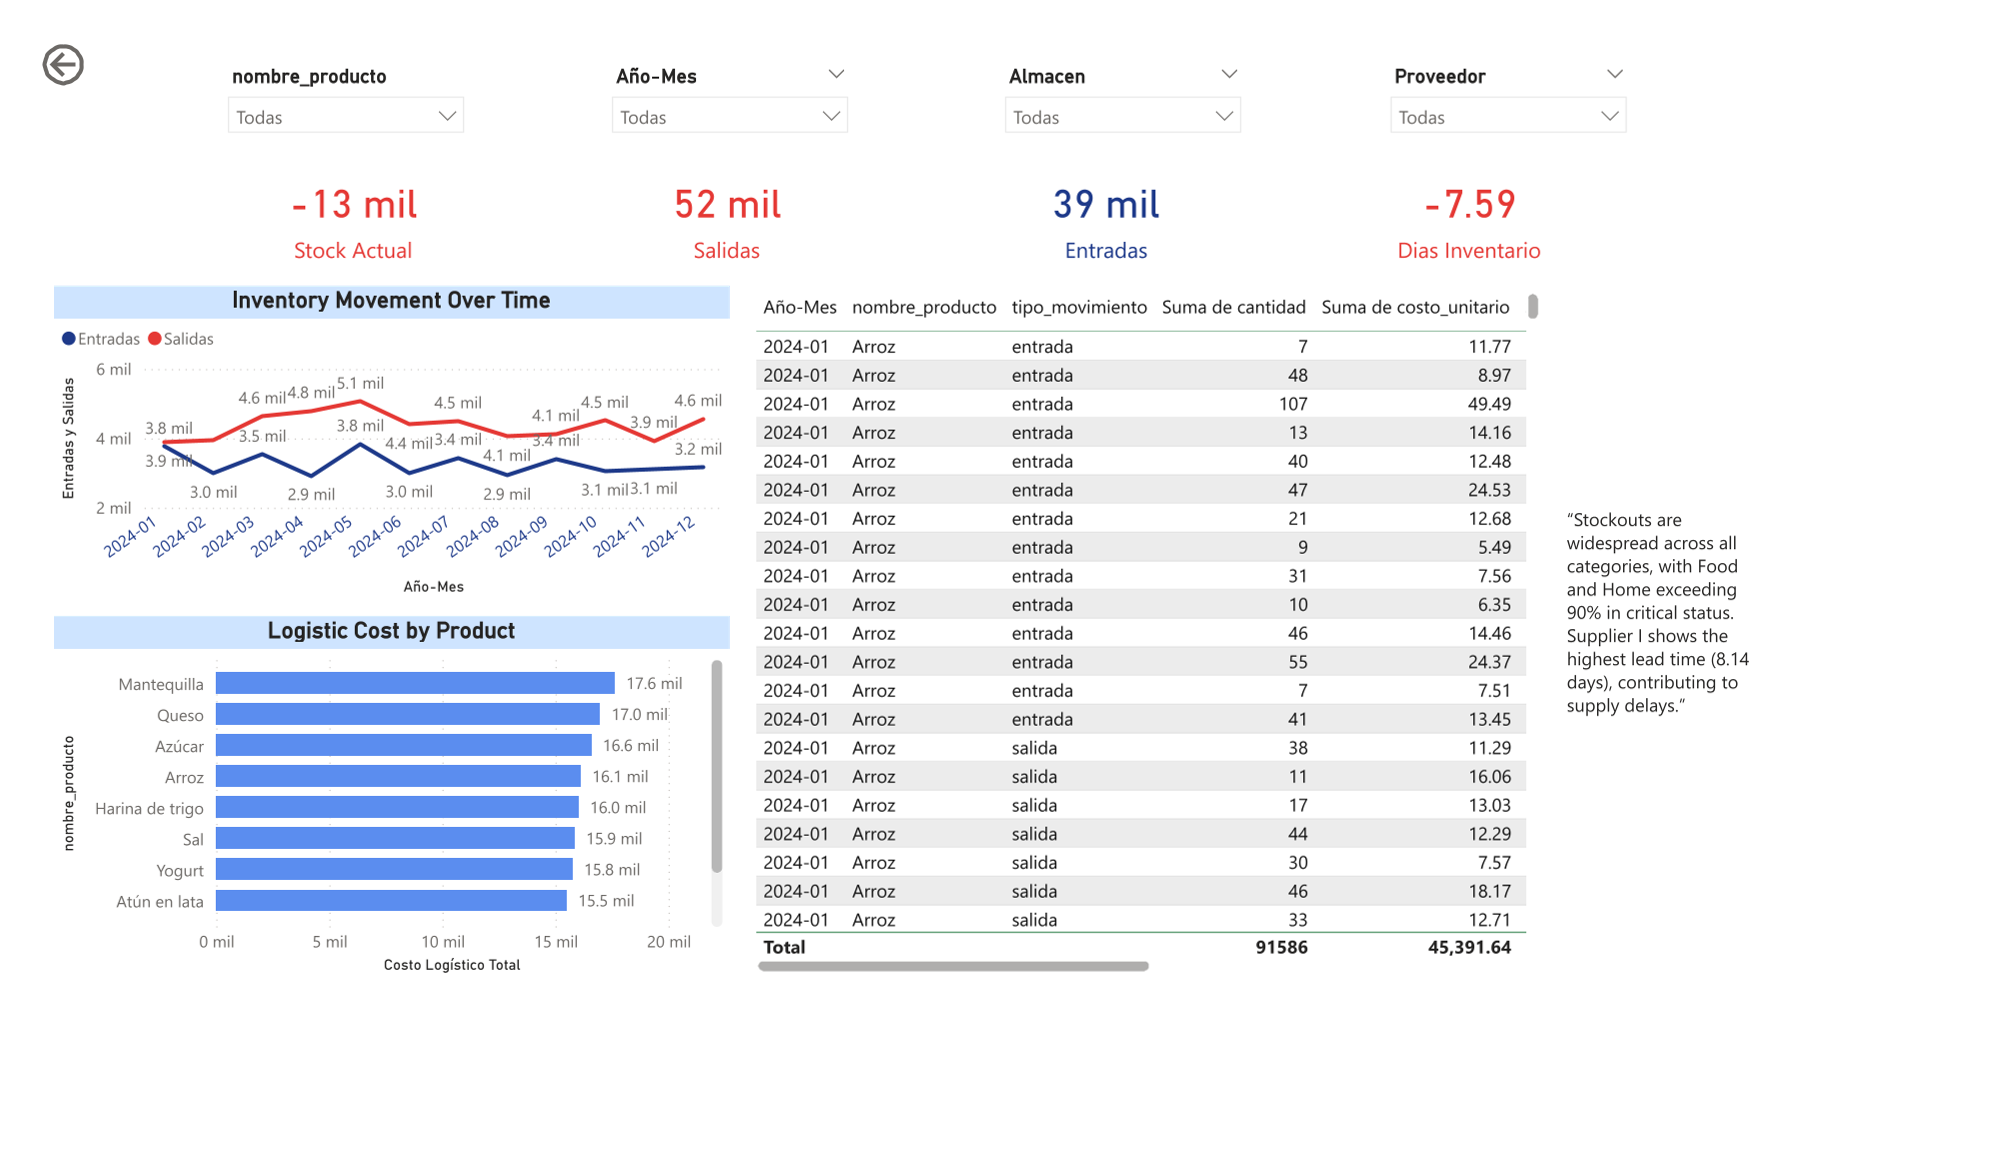

Layout of this report page (visuals, bound fields, positions):
{"tool":"powerbi","page":{"name":"Product & Movement Detail","canvas":[1280,720],"ordinal":2},"visuals":[{"type":"slicer","fields":{"Values":["dim_fecha.Año-Mes"]},"box":[411.7,15.1,193.5,82.3],"z":0},{"type":"slicer","fields":{"Values":["dim_productos.nombre_producto"]},"box":[130.4,15.1,193.5,82.3],"z":1000},{"type":"slicer","fields":{"Values":["dim_almacenes.nombre_almacen"]},"box":[699.8,15.1,193.5,82.3],"z":2000},{"type":"slicer","fields":{"Values":["dim_proveedores.nombre_proveedor"]},"box":[982.5,15.1,193.5,82.3],"z":3000},{"type":"card","fields":{"Values":["fact_movimientos.Stock Actual"]},"box":[143.6,92.7,177,76.8],"z":4000},{"type":"card","fields":{"Values":["fact_movimientos.Entradas"]},"box":[695.2,92.7,177,76.8],"z":5000},{"type":"card","fields":{"Values":["fact_movimientos.Salidas"]},"box":[418,92.7,177,76.8],"z":6000},{"type":"card","fields":{"Values":["fact_movimientos.Dias Inventario"]},"box":[961.4,92.7,177,76.8],"z":7000},{"type":"lineChart","title":"Inventory Movement Over Time","fields":{"Category":["dim_fecha.Año-Mes"],"Y":["fact_movimientos.Entradas","fact_movimientos.Salidas"]},"box":[13.6,182.8,494.6,231.6],"z":8000},{"type":"tableEx","title":"Detailed Movement Log","fields":{"Values":["dim_fecha.Año-Mes","dim_productos.nombre_producto","fact_movimientos.tipo_movimiento","Sum(fact_movimientos.cantidad)","Sum(fact_movimientos.costo_unitario)","Sum(fact_movimientos.costo_logistico)","dim_proveedores.nombre_proveedor","dim_almacenes.nombre_almacen","Sum(fact_movimientos.lead_time_dias)"]},"box":[521.5,182.8,583.9,507.9],"z":9000},{"type":"clusteredBarChart","title":"Logistic Cost by Product","fields":{"Category":["dim_productos.nombre_producto"],"Y":["dim_proveedores.Costo Logístico Total"]},"box":[13.6,424.1,494.6,266.6],"z":10000},{"type":"actionButton","box":[0,0,100,40],"z":11000},{"type":"textbox","box":[1116.3,339.7,155.6,168.9],"z":12000}]}

Visuals, with their boxes in screenshot pixels (x1, y1, x2, y2), scaled from the page's 1280x720 canvas onto the 1992x1152 screenshot:
slicer - dim_fecha.Año-Mes: detection(641, 24, 942, 156)
slicer - dim_productos.nombre_producto: detection(203, 24, 504, 156)
slicer - dim_almacenes.nombre_almacen: detection(1089, 24, 1390, 156)
slicer - dim_proveedores.nombre_proveedor: detection(1529, 24, 1830, 156)
card - fact_movimientos.Stock Actual: detection(223, 148, 499, 271)
card - fact_movimientos.Entradas: detection(1082, 148, 1357, 271)
card - fact_movimientos.Salidas: detection(651, 148, 926, 271)
card - fact_movimientos.Dias Inventario: detection(1496, 148, 1772, 271)
"Inventory Movement Over Time" lineChart: detection(21, 292, 791, 663)
"Detailed Movement Log" tableEx: detection(812, 292, 1720, 1105)
"Logistic Cost by Product" clusteredBarChart: detection(21, 679, 791, 1105)
actionButton: detection(0, 0, 156, 64)
textbox: detection(1737, 544, 1979, 814)
